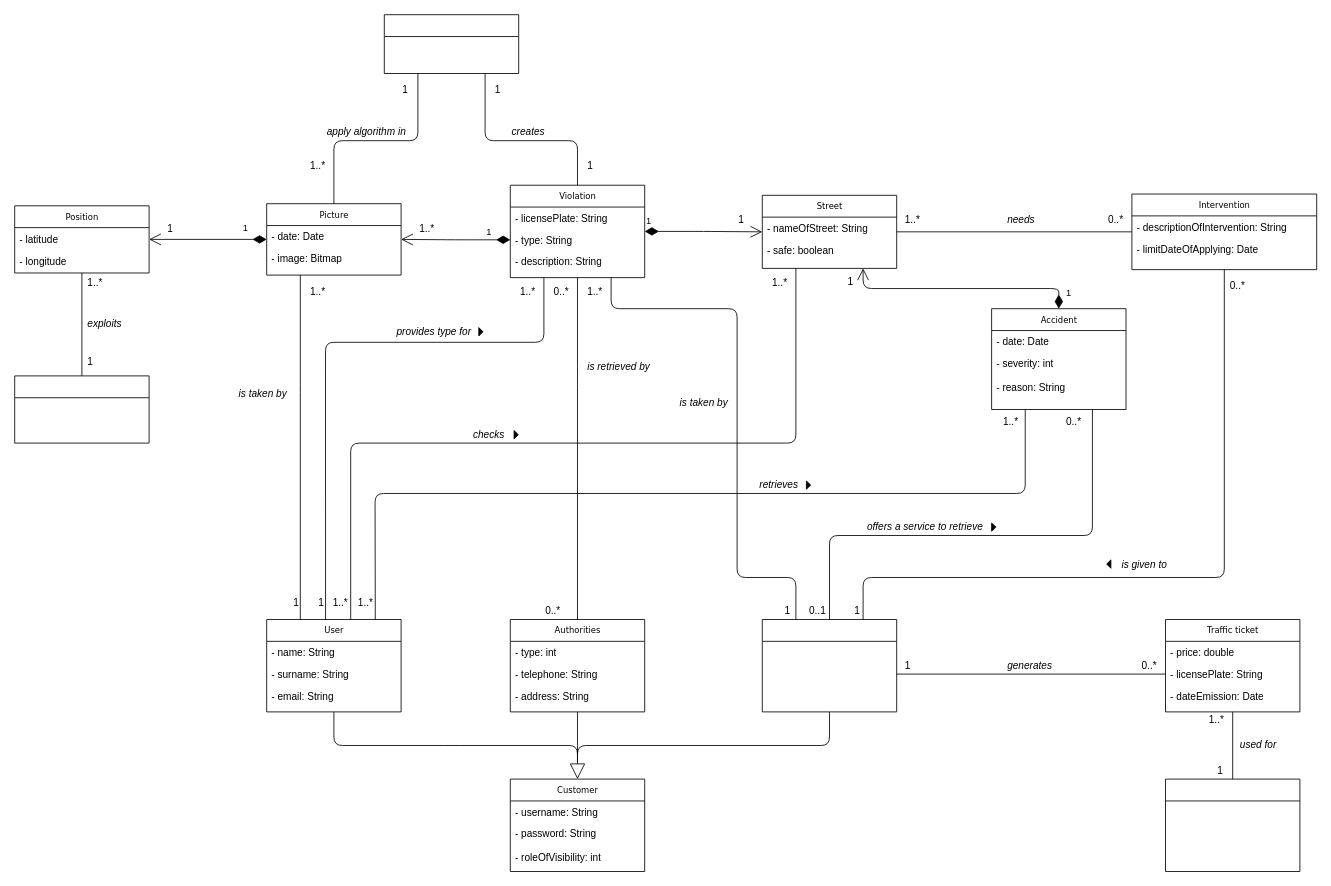
This 1331x886 diagram has some shape labels left out. Here are the shapes that lost their labels. From the top down, the centre of each, then its label:
At point (451, 44): "Recognition".
At point (81, 409): "gpsAPI".
At point (829, 665): "Municipality".
At point (1232, 825): "Statistic".
